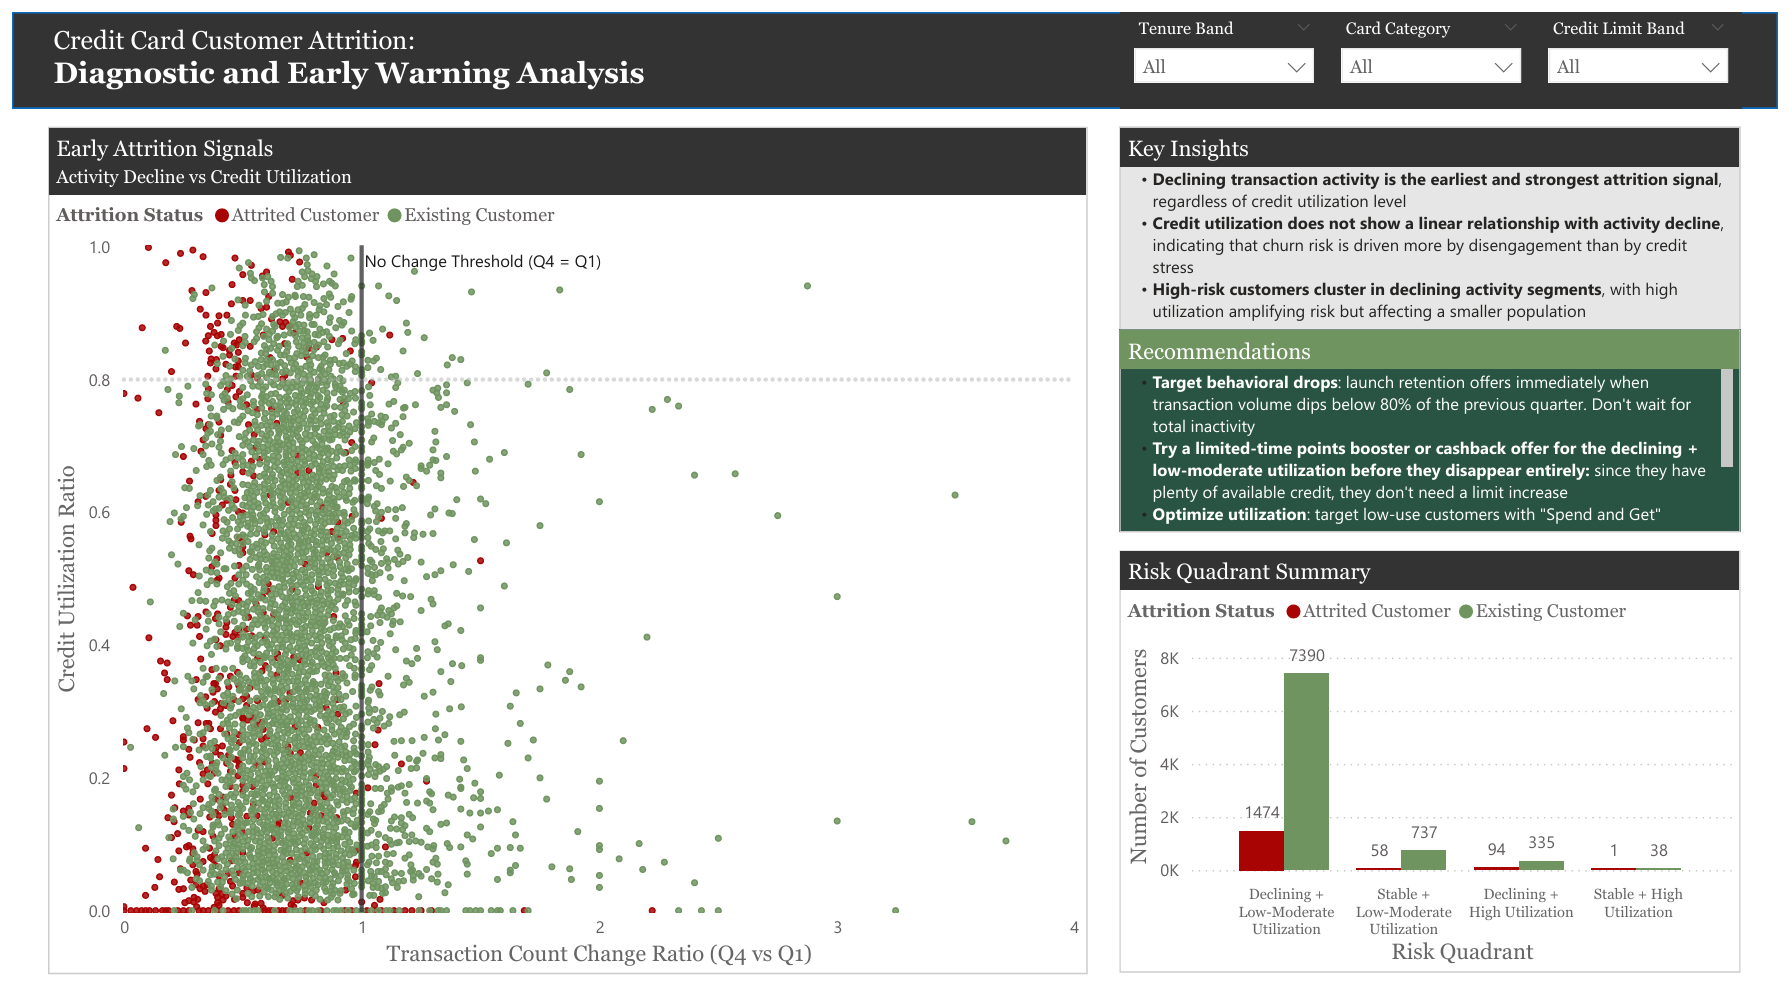

Layout of this report page (visuals, bound fields, positions):
{"tool":"powerbi","page":{"name":"Early Warning Signal Identification","canvas":[1280,720],"ordinal":2},"visuals":[{"type":"shape","box":[0,0,1279.5,69.7],"z":0},{"type":"slicer","fields":{"Values":["raw_data.Card_Category"]},"box":[953.9,0,149.9,69.7],"z":1000},{"type":"slicer","fields":{"Values":["raw_data.Tenure Band"]},"box":[804,0,149.9,69.7],"z":2000},{"type":"textbox","box":[25,4.5,460.3,60.6],"z":3000},{"type":"slicer","fields":{"Values":["raw_data.Credit Limit Band"]},"box":[1104,0,149.9,69.7],"z":4000},{"type":"textbox","title":"Key Insights","box":[803.2,83.2,449.8,147.4],"z":5000},{"type":"scatterChart","title":"Early Attrition Signals","fields":{"X":["raw_data.Total_Ct_Chng_Q4_Q1"],"Y":["raw_data.Credit Utilization"],"Series":["raw_data.Attrition Status"]},"box":[26.5,83.2,754,614.2],"z":6000},{"type":"clusteredColumnChart","title":"Risk Quadrant Summary","fields":{"Category":["raw_data.Risk Quadrant"],"Y":["Count(raw_data.CLIENTNUM)"],"Series":["raw_data.Attrition Status"]},"box":[803.5,390.1,449.8,305.7],"z":7000},{"type":"textbox","title":"Recommendations","box":[803.5,230,449.8,147],"z":7001}]}

Visuals, with their boxes in screenshot pixels (x1, y1, x2, y2), scaled from the page's 1280x720 canvas onto the 1788x988 screenshot:
shape: (x1=0, y1=0, x2=1787, y2=96)
slicer - raw_data.Card_Category: (x1=1332, y1=0, x2=1542, y2=96)
slicer - raw_data.Tenure Band: (x1=1123, y1=0, x2=1332, y2=96)
textbox: (x1=35, y1=6, x2=678, y2=89)
slicer - raw_data.Credit Limit Band: (x1=1542, y1=0, x2=1752, y2=96)
"Key Insights" textbox: (x1=1122, y1=114, x2=1750, y2=316)
"Early Attrition Signals" scatterChart: (x1=37, y1=114, x2=1090, y2=957)
"Risk Quadrant Summary" clusteredColumnChart: (x1=1122, y1=535, x2=1751, y2=955)
"Recommendations" textbox: (x1=1122, y1=316, x2=1751, y2=517)
